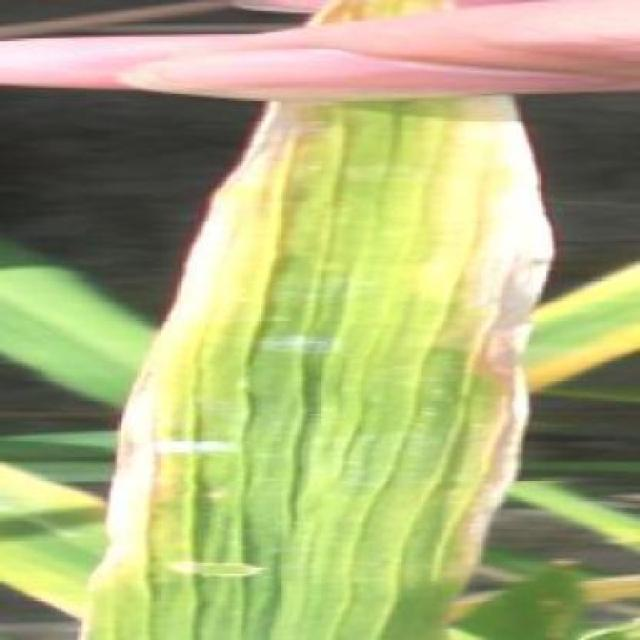Brown_Spot: (153, 98, 549, 638)
